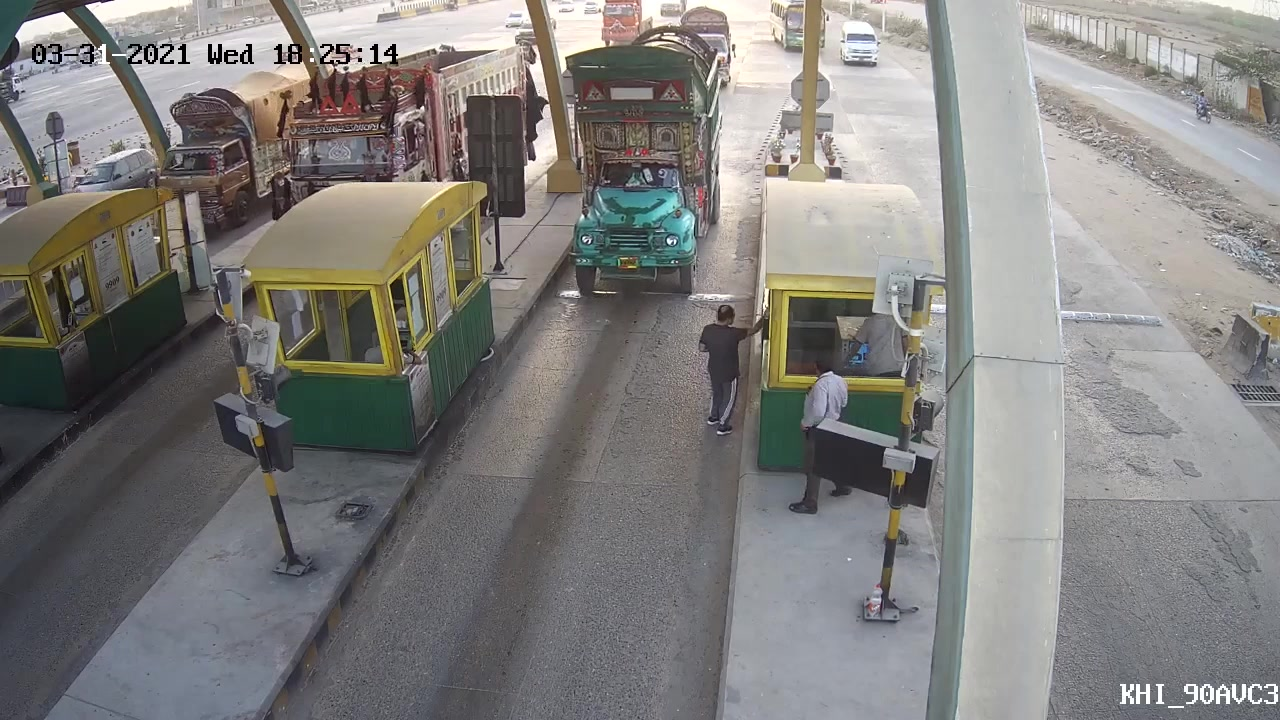F5: (555, 32, 729, 298)
